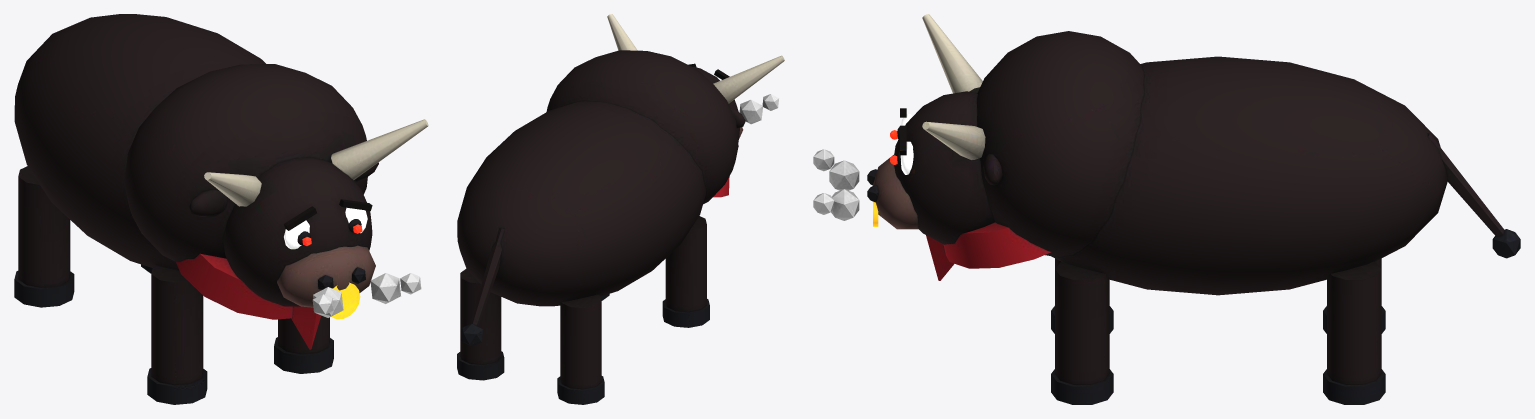
The model's file is jefe_toro.glb.
3 renders of one model, left to right at view 1: azimuth 30°, elevation 25°; view 2: azimuth 150°, elevation 25°; view 3: azimuth 270°, elevation 25°, orthographic. The views are drawn at different scales.
Visible parts, largest first — view 1: jefe_toro; view 2: jefe_toro; view 3: jefe_toro.
Boxes of the visible parts, left/top/right/bottom form: jefe_toro: left=14, top=14, right=428, bottom=404; jefe_toro: left=457, top=14, right=784, bottom=404; jefe_toro: left=813, top=14, right=1520, bottom=404.
Size of the model in its own units: 2 by 2.56 by 5.2.
1 material, 1 textured.
